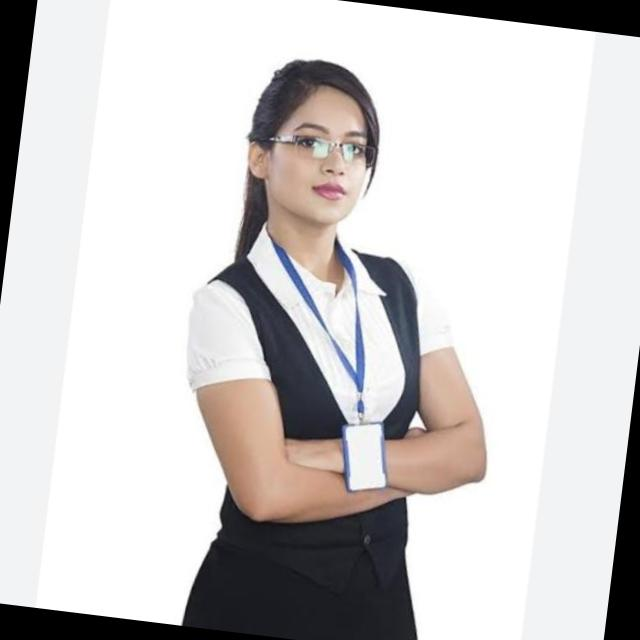id_card: (251, 234, 413, 496)
